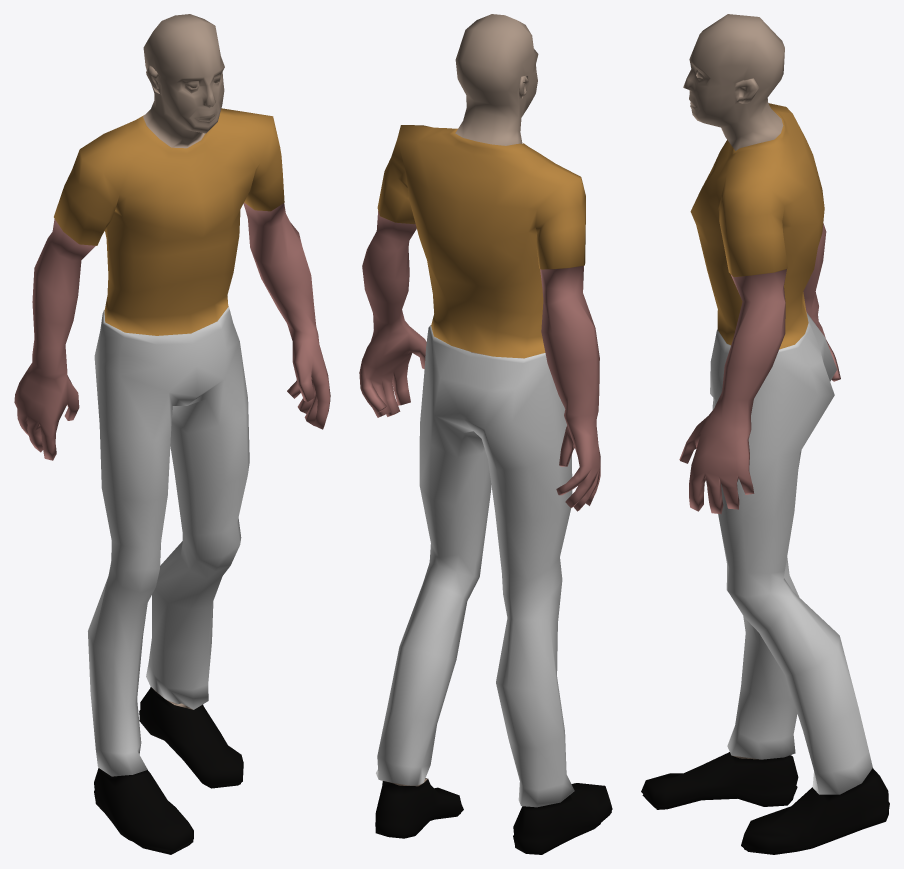
File: walking man.obj
3 views of the same model, side by side, from view 1: azimuth 30°, elevation 25°; view 2: azimuth 150°, elevation 25°; view 3: azimuth 270°, elevation 25° (orthographic). The views are drawn at different scales.
Parts seen in each view (by area): view 1: Low_Poly_Characte.001_Mesh.000; view 2: Low_Poly_Characte.001_Mesh.000; view 3: Low_Poly_Characte.001_Mesh.000.
Part boxes in pixels (box(x1,y1,x2,y2)): Low_Poly_Characte.001_Mesh.000: box(14, 14, 330, 854); Low_Poly_Characte.001_Mesh.000: box(359, 14, 612, 854); Low_Poly_Characte.001_Mesh.000: box(641, 14, 889, 854).
Size of the model in its own units: 2.09 by 5.95 by 1.66.
